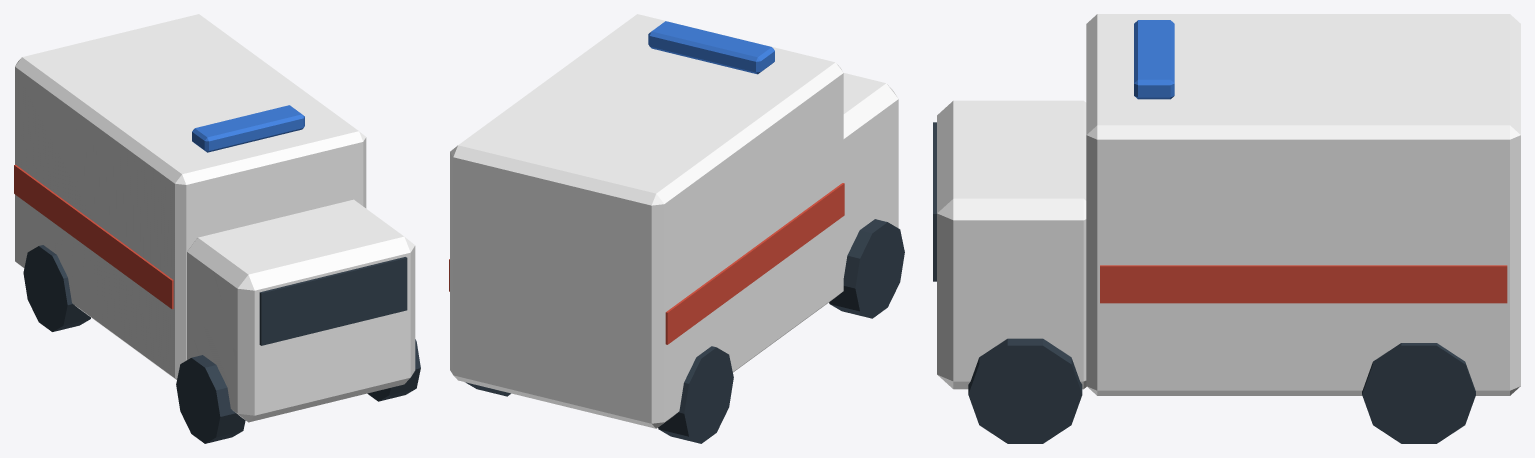
Rendered from ambulance.fbx.
The picture shows the model from 3 angles, left to right: view 1: azimuth 30°, elevation 25°; view 2: azimuth 150°, elevation 25°; view 3: azimuth 270°, elevation 25°; orthographic projection. The views are drawn at different scales.
Parts seen in each view (by area): view 1: ambulance; view 2: ambulance; view 3: ambulance.
Part boxes in pixels (left/top/right/bottom): ambulance: left=14, top=14, right=420, bottom=443; ambulance: left=449, top=14, right=904, bottom=443; ambulance: left=933, top=14, right=1520, bottom=443.
Bounding box in the file's own units: 2.2 × 2.69 × 4.33.
